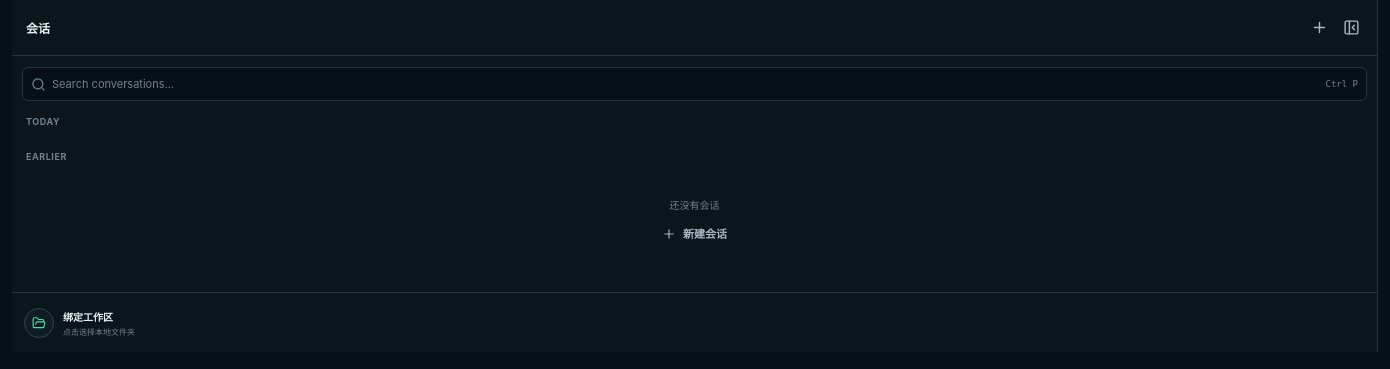
SessionSidebar › 绑定本地工作区后展示路径并发送成功通知
Click the button with class "session-sidebar__workspace": (88, 316) x1=12 y1=292 x2=1377 y2=352
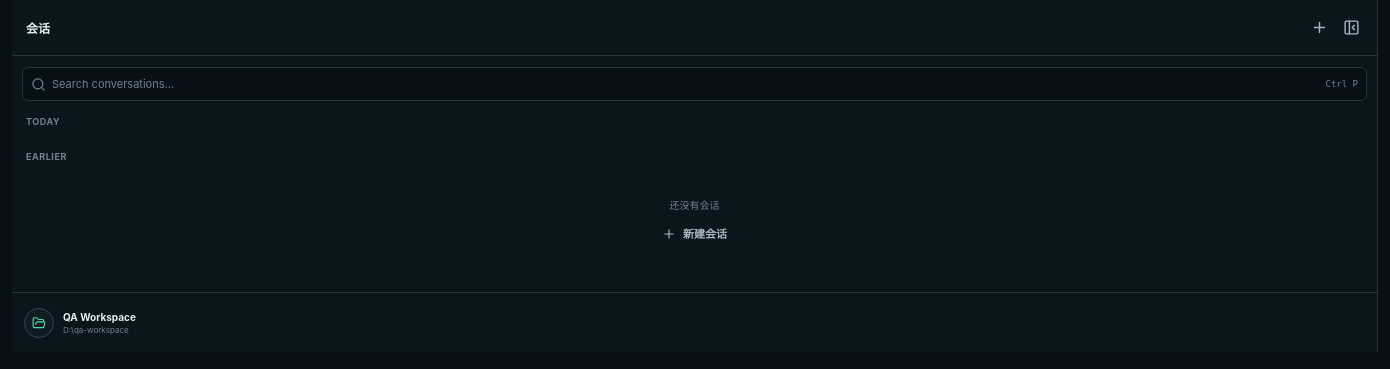
Expected: the button with class "session-sidebar__workspace" shows "QA Workspace", x1=12 y1=292 x2=1377 y2=352
